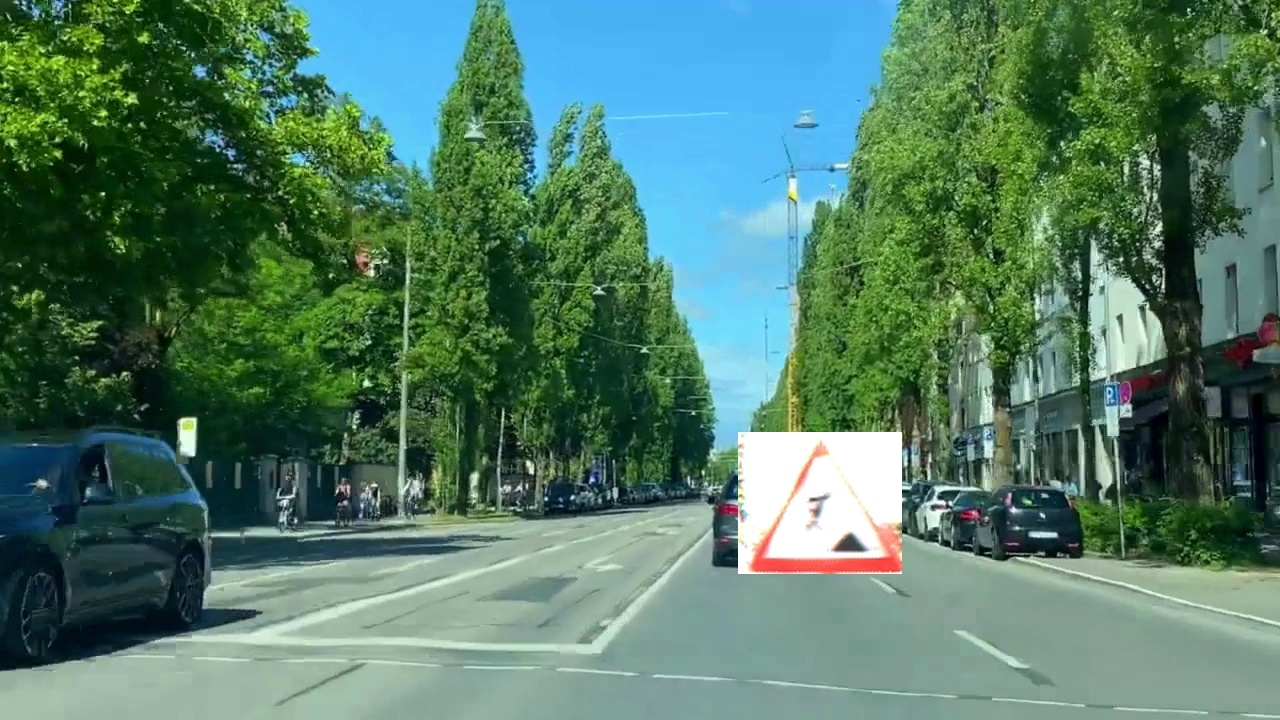Road work: (738, 432, 902, 574)
